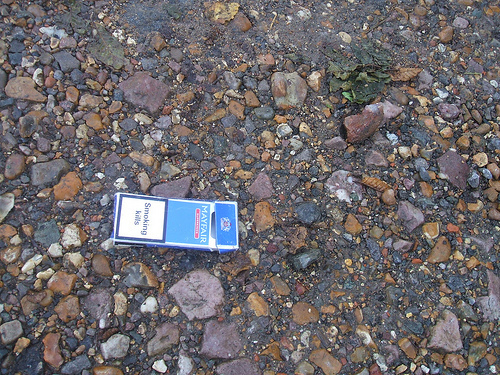litter: (109, 190, 239, 255)
